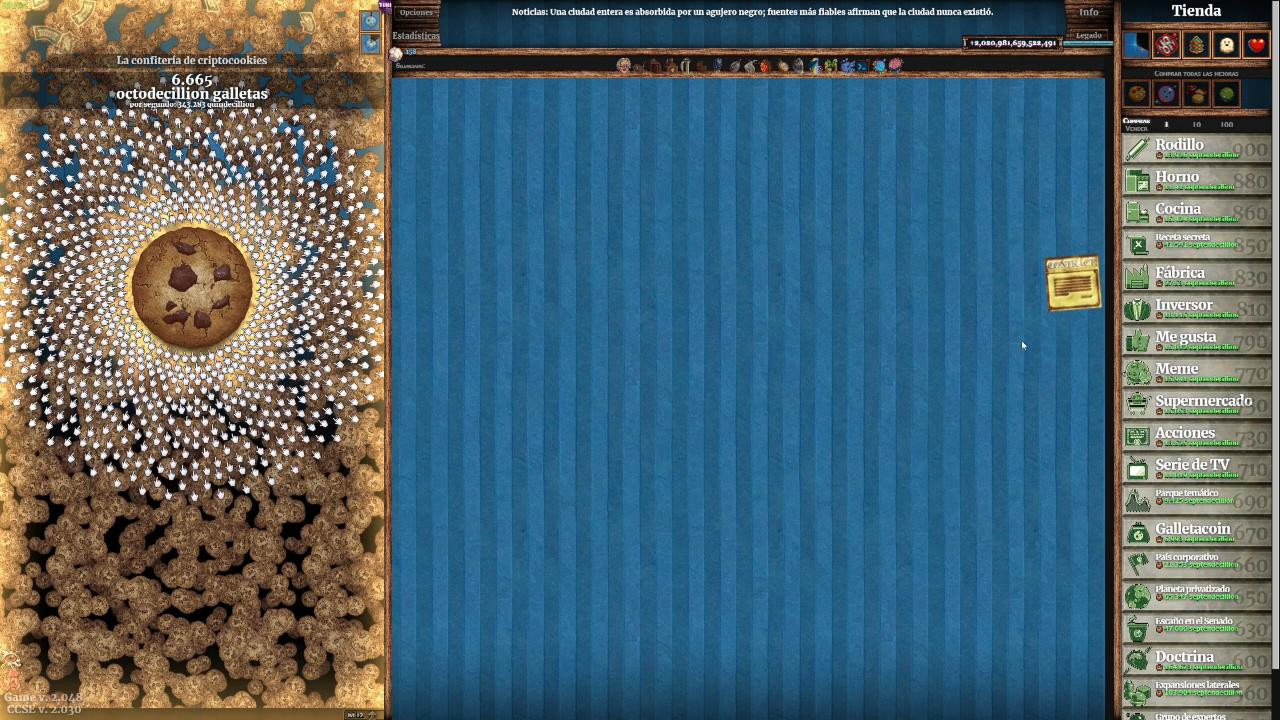GoldenCartridge: (1044, 250, 1104, 314)
